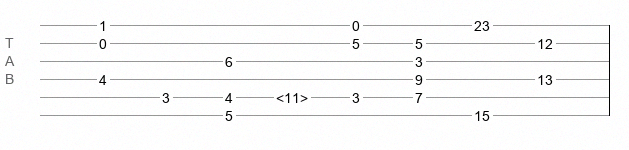0: (99, 36, 107, 46), (352, 18, 360, 28)
1: (99, 18, 107, 28)
12: (537, 36, 553, 46)
13: (537, 72, 553, 82)
15: (474, 108, 490, 118)
23: (474, 18, 490, 28)
3: (162, 90, 170, 100), (352, 90, 360, 100), (415, 54, 423, 64)
4: (99, 72, 107, 82), (225, 90, 233, 100)
5: (225, 108, 233, 118), (352, 36, 360, 46), (415, 36, 423, 46)
6: (225, 54, 233, 64)
7: (415, 90, 423, 100)
9: (415, 72, 423, 82)
harmonic: (276, 90, 308, 100)
